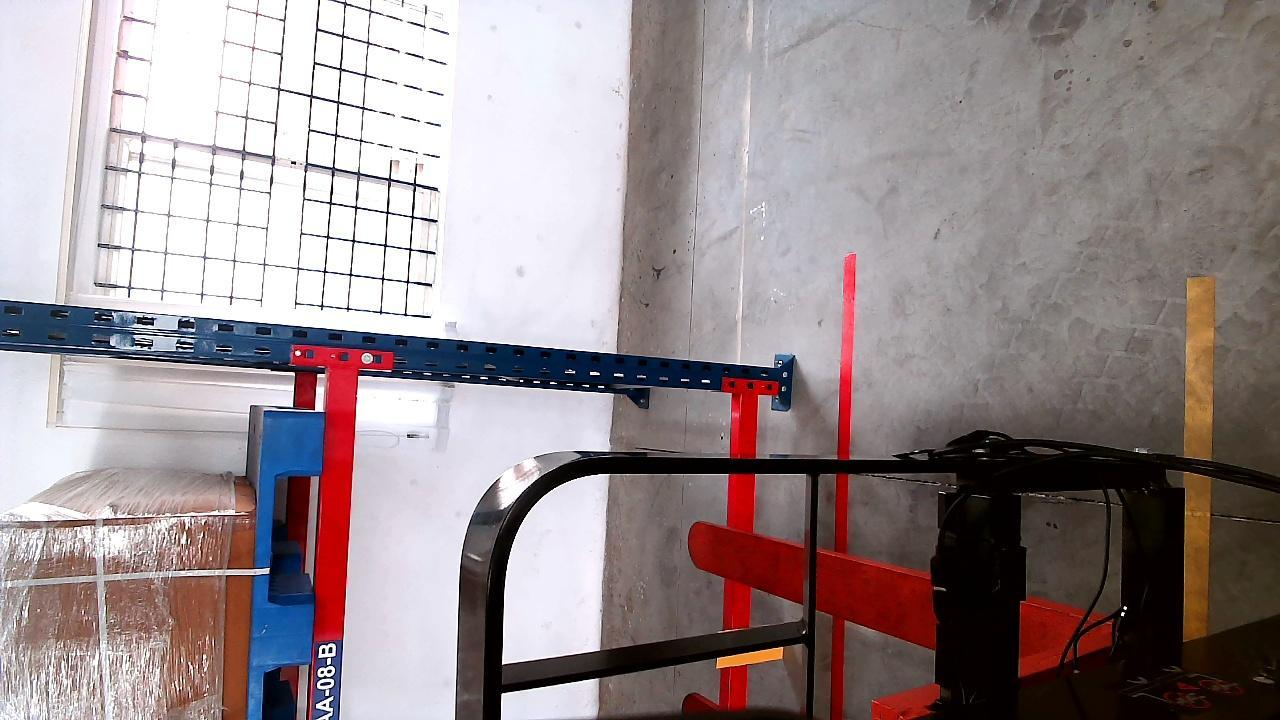red_line: (828, 254, 862, 720)
yellow_line: (1184, 258, 1213, 663)
